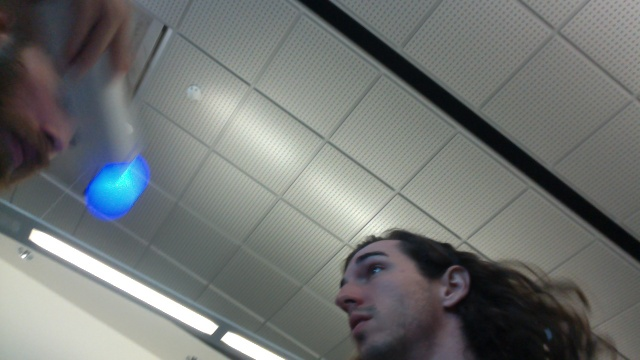wand: (90, 159, 148, 216)
